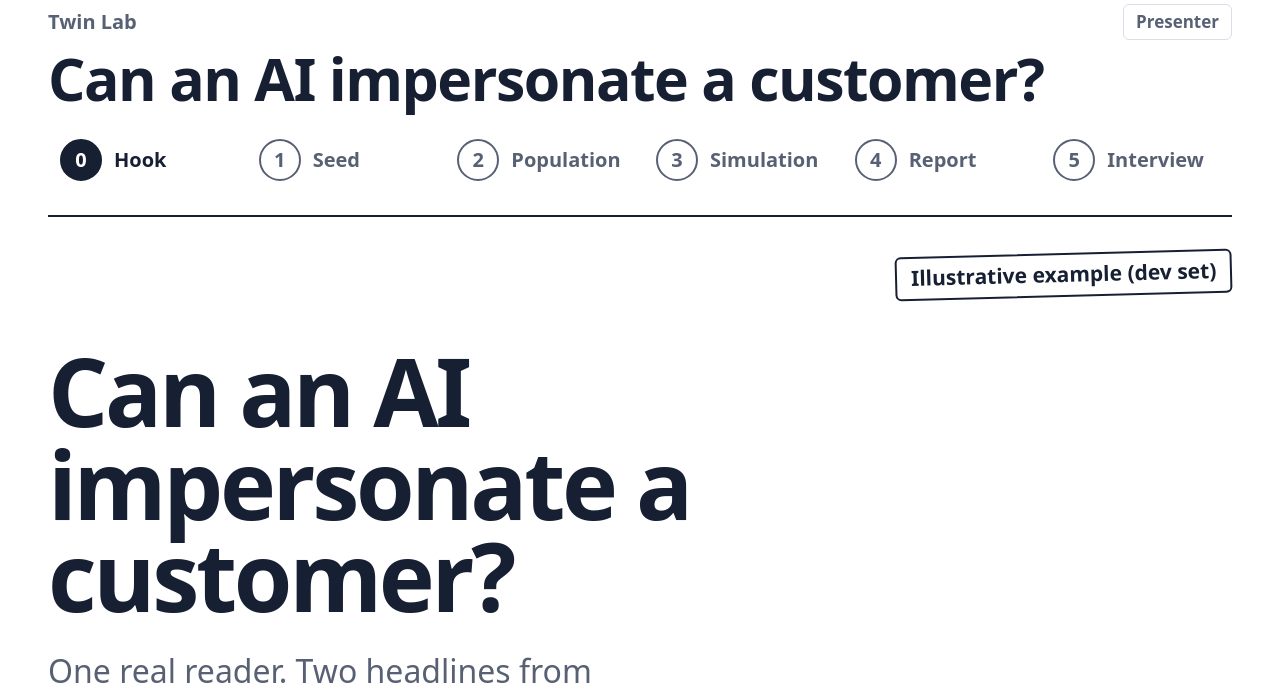
Test: Step 1 Seed › shows plain-language cards for arms A-D and both baselines, with E as a control
What coordinates should you click on to do the following:
click the button "1 Seed"
I would click on:
 (342, 160)
Its box is [247,129,437,191].
(page scrolled)
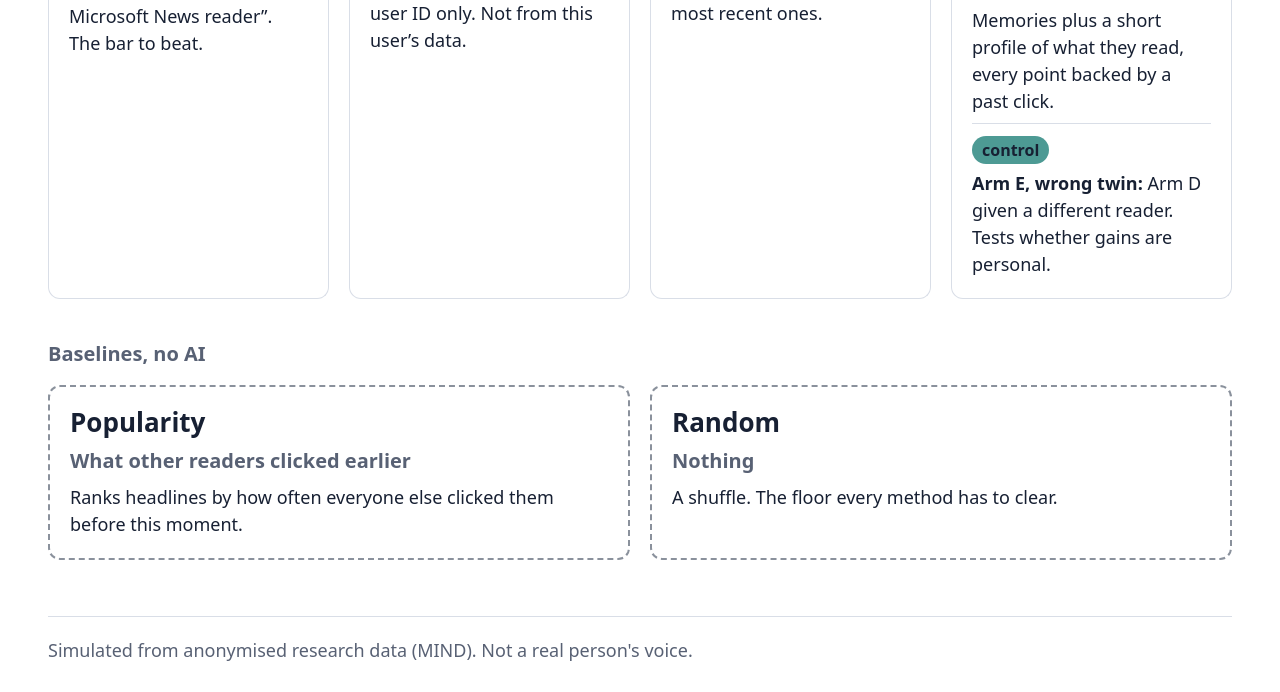
expect the text "control" is shown: met, box [972,136,1049,164]
expect the text "Arm E, wrong twin:" is shown: met, box [972,171,1143,195]
expect the heading "Popularity" is shown: met, box [70,404,205,440]
